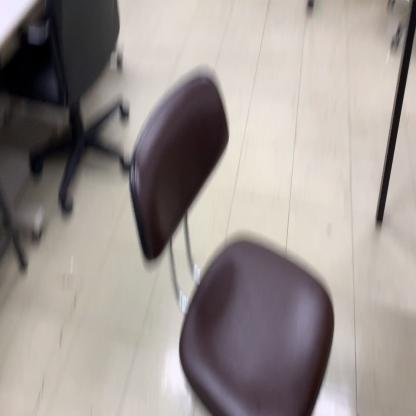chair: (128, 64, 336, 416), (26, 0, 136, 216)
